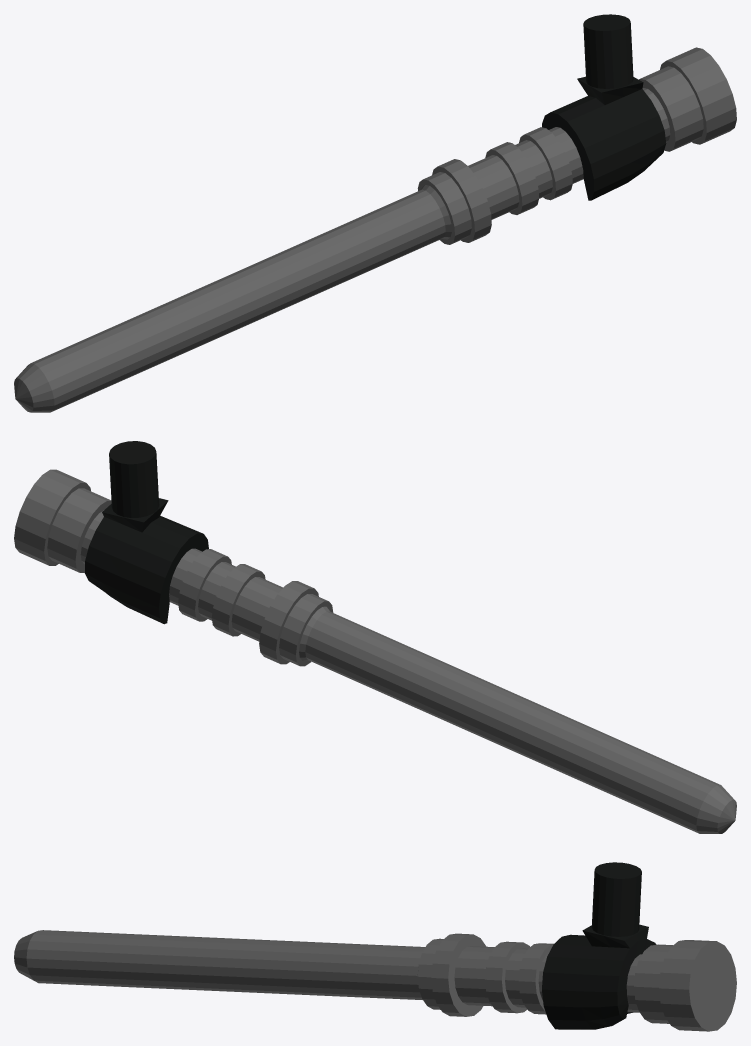
The model's file is LeoDart_left_hand.obj.
The picture shows the model from 3 angles, top to bottom: view 1: azimuth 30°, elevation 25°; view 2: azimuth 150°, elevation 25°; view 3: azimuth 330°, elevation 25°; orthographic projection.
Parts seen in each view (by area): view 1: LightSaber, hand_sx; view 2: LightSaber, hand_sx; view 3: LightSaber, hand_sx.
Boxes of the visible parts, bbox=[...] form: LightSaber: bbox=[14, 47, 736, 412]; hand_sx: bbox=[542, 14, 666, 200]; LightSaber: bbox=[14, 469, 736, 833]; hand_sx: bbox=[85, 441, 208, 624]; LightSaber: bbox=[14, 930, 736, 1031]; hand_sx: bbox=[542, 862, 656, 1029].
Bounding box in the file's own units: 4.12 × 1.38 × 0.5059.
2 materials, 1 textured.
